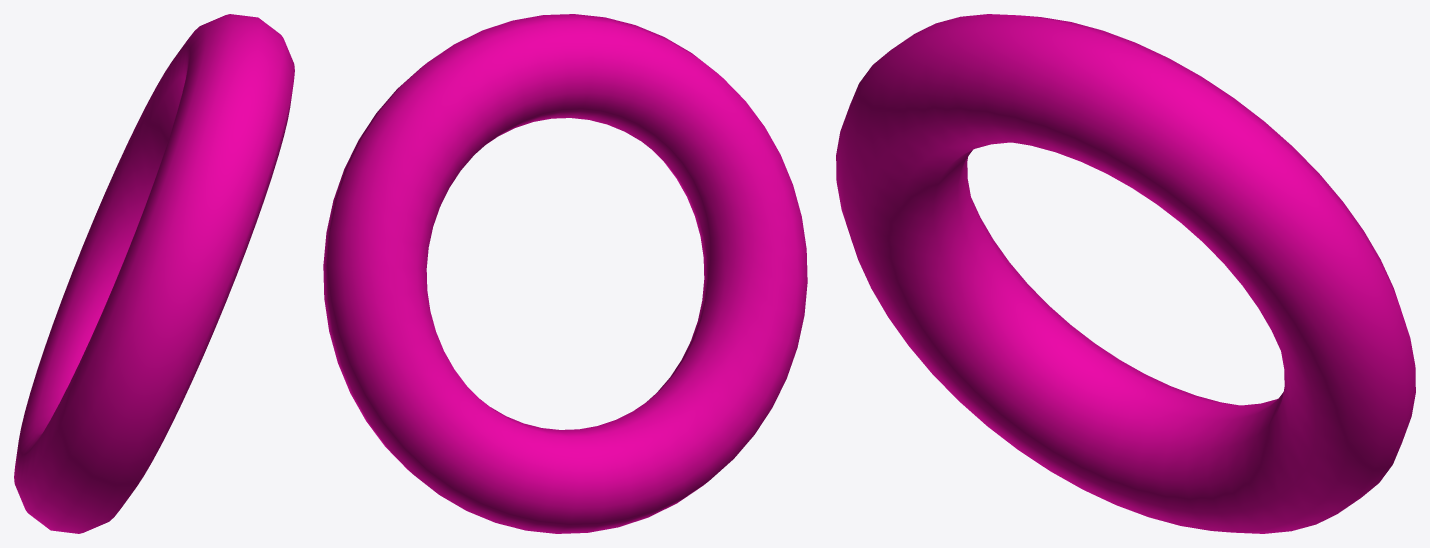
3 views of the same model, side by side, from view 1: azimuth 30°, elevation 25°; view 2: azimuth 150°, elevation 25°; view 3: azimuth 270°, elevation 25° (orthographic). The views are drawn at different scales.
Visible parts, largest first — view 1: Torus; view 2: Torus; view 3: Torus.
Part boxes in pixels (x1,y1,x2,y2): Torus: [14, 14, 294, 533]; Torus: [323, 14, 807, 533]; Torus: [836, 14, 1415, 533].
Size of the model in its own units: 1.78 by 2.34 by 2.2.
